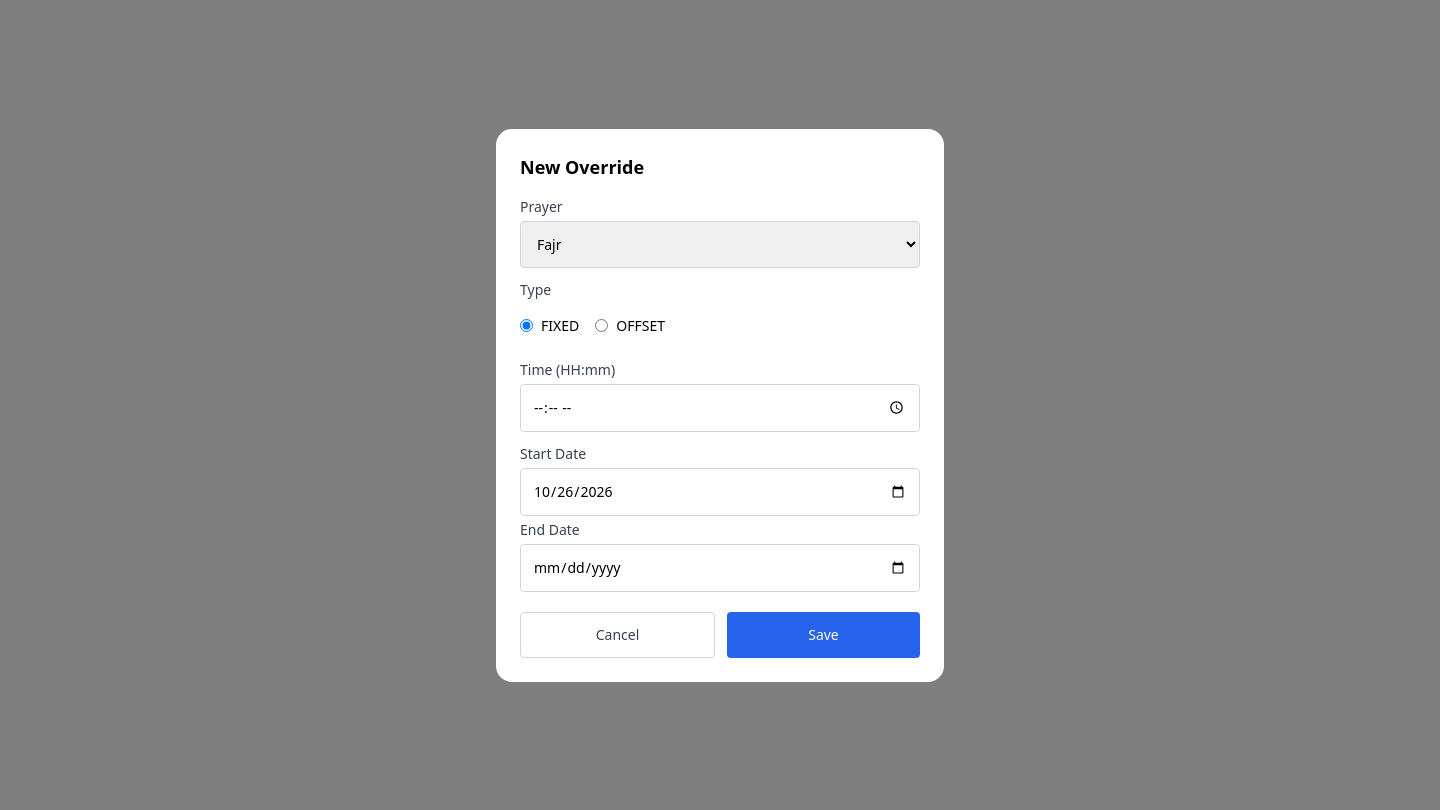
Test: OverrideFormModal — FIXED validation › shows an error for an invalid FIXED time format when value is empty
The width and height of the screenshot is (1440, 810).
In the 1st date field: (720, 492) [520,468,920,516], type "2025-01-10"
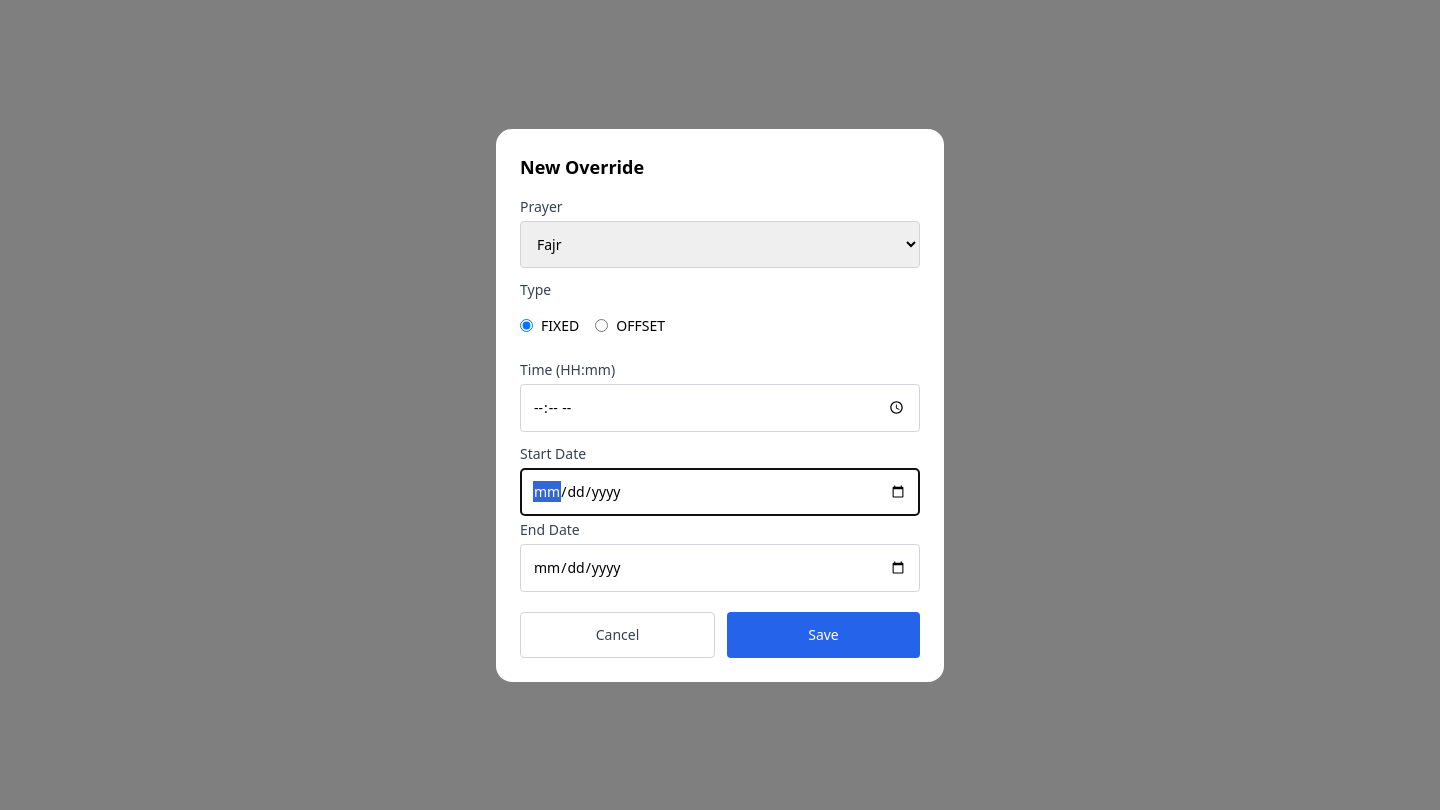
In the 2nd date field: (720, 568) [520,544,920,592], type "2025-01-20"
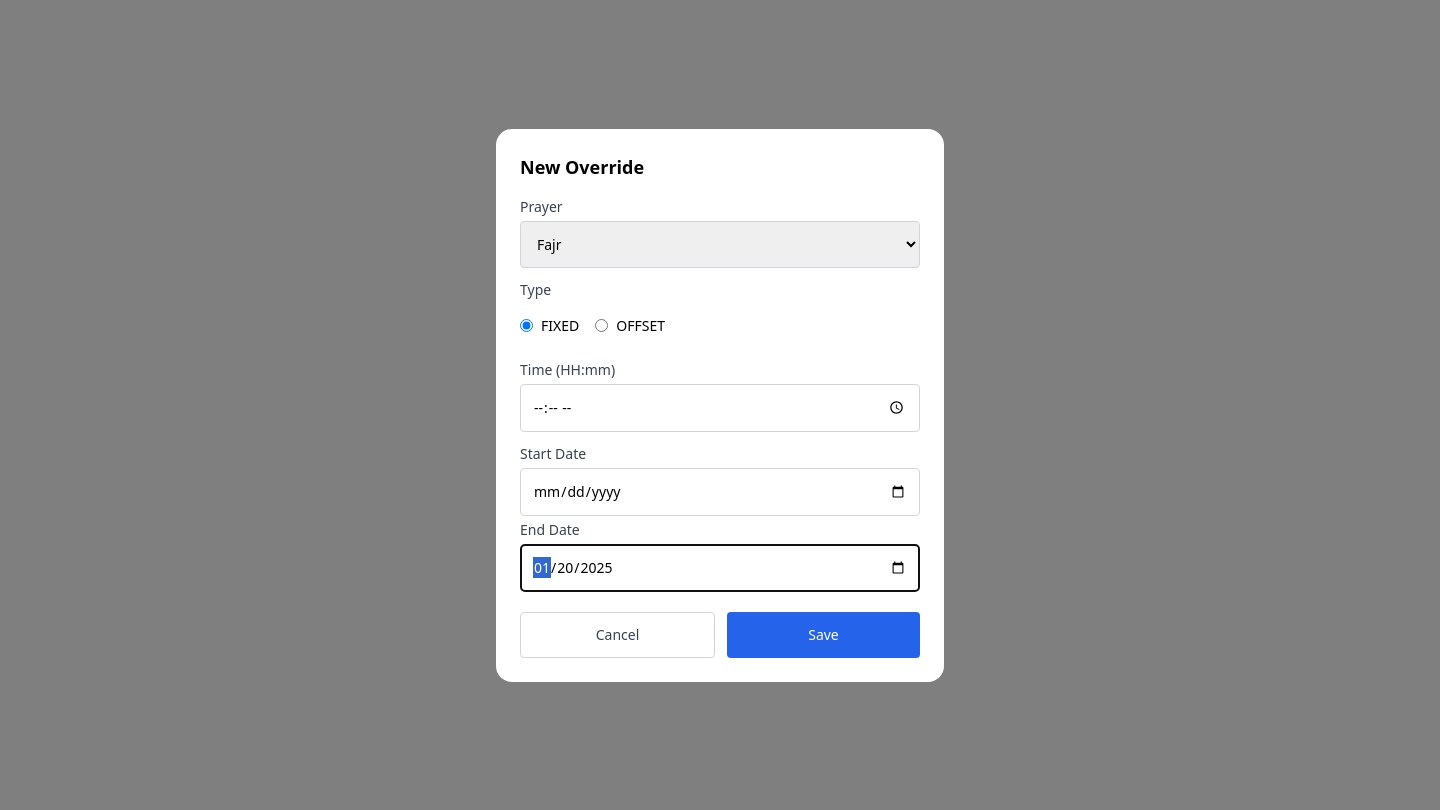
Click the button "Save": (824, 634) [727,612,920,658]
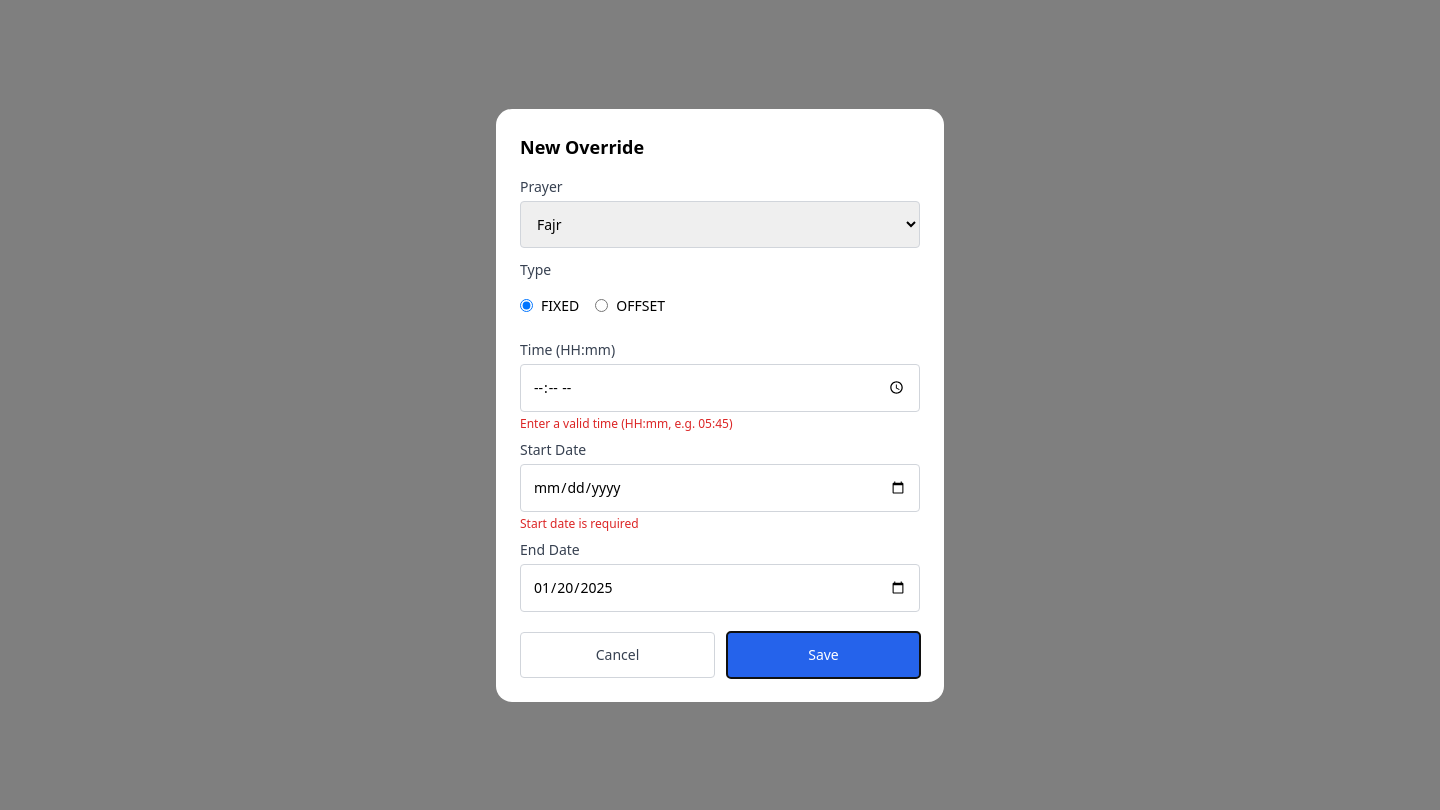
Now the text "Enter a valid time (HH:mm, e.g. 05:45)" is shown, box [520,414,732,432]
